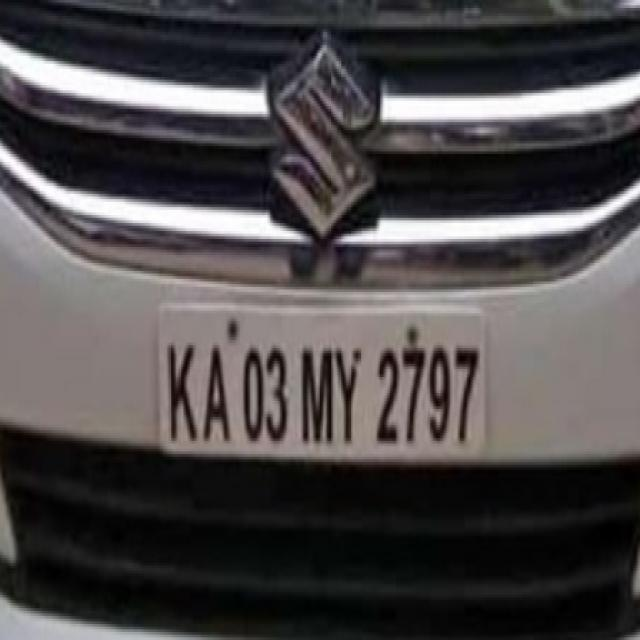0: (239, 331, 267, 448)
3: (265, 332, 292, 444)
7: (450, 348, 484, 450), (403, 330, 429, 450)
9: (427, 341, 453, 441)
A: (198, 330, 234, 452)
K: (163, 332, 202, 448)
M: (300, 328, 336, 454)
Y: (331, 330, 367, 448), (374, 336, 400, 452)
